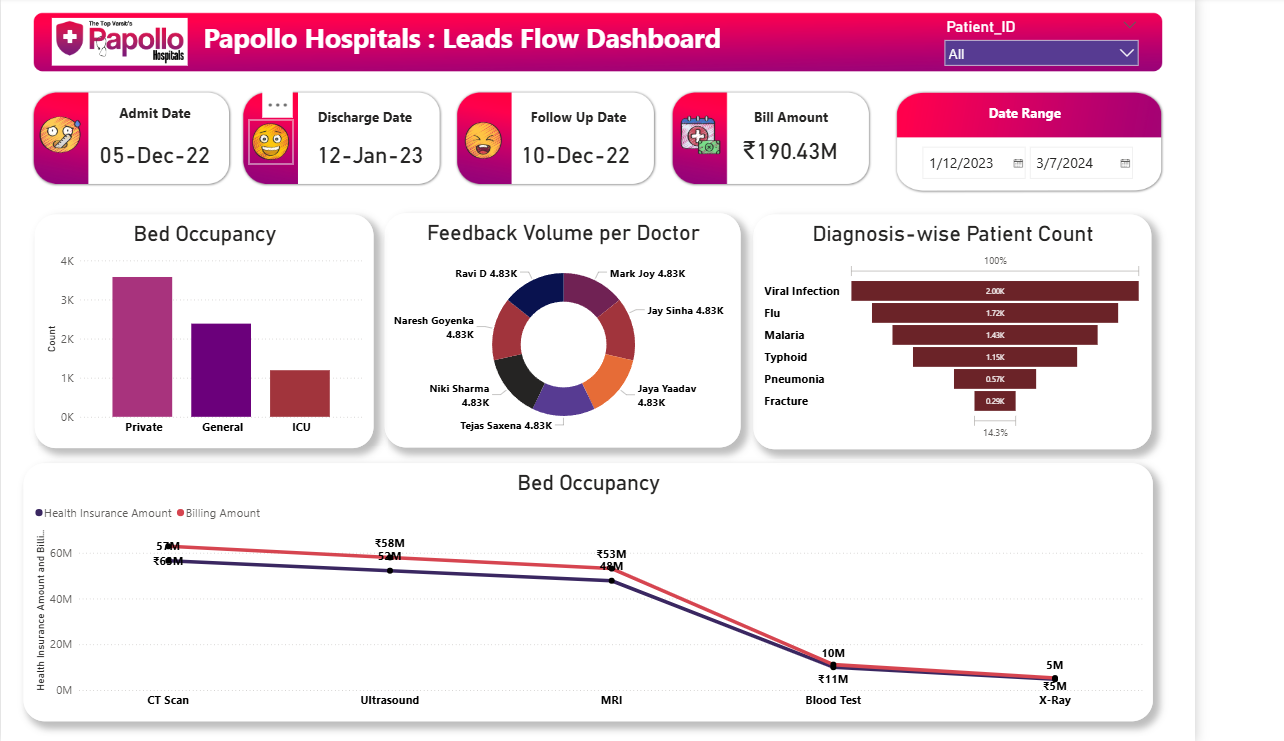

Layout of this report page (visuals, bound fields, positions):
{"tool":"powerbi","page":{"name":"Page 2","canvas":[1680,1050],"ordinal":0},"visuals":[{"type":"textbox","box":[280,27.1,755.7,74.3],"z":0},{"type":"image","box":[2636.7,100,623.3,150],"z":1000},{"type":"slicer","fields":{"Values":["Sheet1.Patient_ID"]},"box":[2400,373.3,793.3,420],"z":2000},{"type":"card","fields":{"Values":["Min(Sheet1.Admit_Date)"]},"box":[437.6,198.8,162.9,42.8],"z":3000},{"type":"card","fields":{"Values":["Min(Sheet1.Discharge_Date)"]},"box":[129.8,198.8,172.6,42.8],"z":4000},{"type":"card","fields":{"Values":["Min(Sheet1.Followup Date)"]},"box":[724.3,198.6,167.1,42.9],"z":5000},{"type":"textbox","box":[152.9,145.7,127.1,57.1],"z":6000},{"type":"textbox","box":[437.1,151.4,151.4,37.1],"z":7000},{"type":"textbox","box":[732.9,151.4,158.6,37.1],"z":8000},{"type":"textbox","box":[1035.7,151.4,151.4,37.1],"z":9000},{"type":"card","fields":{"Values":["Sum(Sheet1.Billing Amount)"]},"box":[1031.4,194.3,158.6,42.9],"z":10000},{"type":"image","box":[50,157.1,68.6,74.3],"z":11000},{"type":"image","box":[348.6,172.9,62.9,62.9],"z":12000},{"type":"image","box":[640,171.4,77.1,62.9],"z":13000},{"type":"image","box":[951.4,158.6,65.7,71.4],"z":14000},{"type":"columnChart","title":"Bed Occupancy","fields":{"Category":["Sheet1.Bed_Occupancy"],"Y":["CountNonNull(Sheet1.Bed_Occupancy)"]},"box":[47.1,305.7,477.1,328.6],"z":15000},{"type":"donutChart","title":"Feedback Volume per Doctor","fields":{"Category":["Sheet1.Doctor"],"Y":["Sum(Sheet1.Feedback)"]},"box":[540.2,305.2,501,329.5],"z":16000},{"type":"funnel","title":"Diagnosis-wise Patient Count","fields":{"Category":["Sheet1.Diagnosis"],"Y":["CountNonNull(Sheet1.Diagnosis)"]},"box":[1060,305.7,560,330],"z":17000},{"type":"image","box":[30,24.3,274.3,77.1],"z":18000},{"type":"lineChart","title":"Bed Occupancy","fields":{"Y":["Sum(Sheet1.Health Insurance Amount)","Sum(Sheet1.Billing Amount)"],"Category":["Sheet1.Test"]},"box":[31.1,656.3,1589.5,363.3],"z":19000},{"type":"slicer","fields":{"Values":["Sheet1.Admit_Date"]},"box":[1284.3,201.2,360.6,68.9],"z":20000},{"type":"slicer","fields":{"Values":["Sheet1.Patient_ID"]},"box":[1317.1,24.3,292.9,82.9],"z":21000},{"type":"textbox","box":[1365.7,145.7,151.4,37.1],"z":22000}]}

Visuals, with their boxes on the page's 1680x1050 design canvas (x1, y1, x2, y2). These are canvas units, not pixel positions in the 1284x741 screenshot, which may show the page scaled, cropped or inside an application window:
textbox: Rect(280, 27, 1036, 101)
image: Rect(2637, 100, 3260, 250)
slicer - Sheet1.Patient_ID: Rect(2400, 373, 3193, 793)
card - Min(Sheet1.Admit_Date): Rect(438, 199, 600, 242)
card - Min(Sheet1.Discharge_Date): Rect(130, 199, 302, 242)
card - Min(Sheet1.Followup Date): Rect(724, 199, 891, 242)
textbox: Rect(153, 146, 280, 203)
textbox: Rect(437, 151, 588, 188)
textbox: Rect(733, 151, 892, 188)
textbox: Rect(1036, 151, 1187, 188)
card - Sum(Sheet1.Billing Amount): Rect(1031, 194, 1190, 237)
image: Rect(50, 157, 119, 231)
image: Rect(349, 173, 412, 236)
image: Rect(640, 171, 717, 234)
image: Rect(951, 159, 1017, 230)
"Bed Occupancy" columnChart: Rect(47, 306, 524, 634)
"Feedback Volume per Doctor" donutChart: Rect(540, 305, 1041, 635)
"Diagnosis-wise Patient Count" funnel: Rect(1060, 306, 1620, 636)
image: Rect(30, 24, 304, 101)
"Bed Occupancy" lineChart: Rect(31, 656, 1621, 1020)
slicer - Sheet1.Admit_Date: Rect(1284, 201, 1645, 270)
slicer - Sheet1.Patient_ID: Rect(1317, 24, 1610, 107)
textbox: Rect(1366, 146, 1517, 183)
